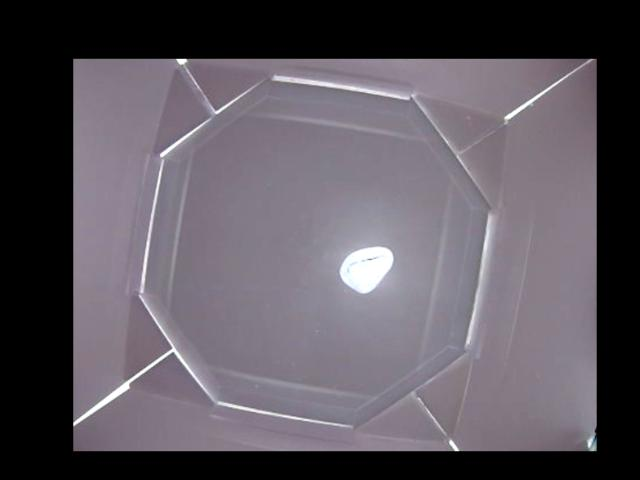Pebble: (338, 244, 394, 293)
